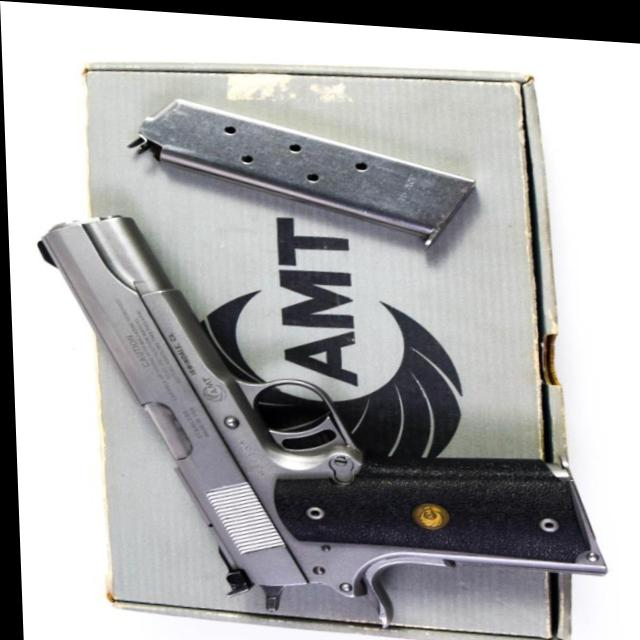handgun: (30, 207, 606, 634)
